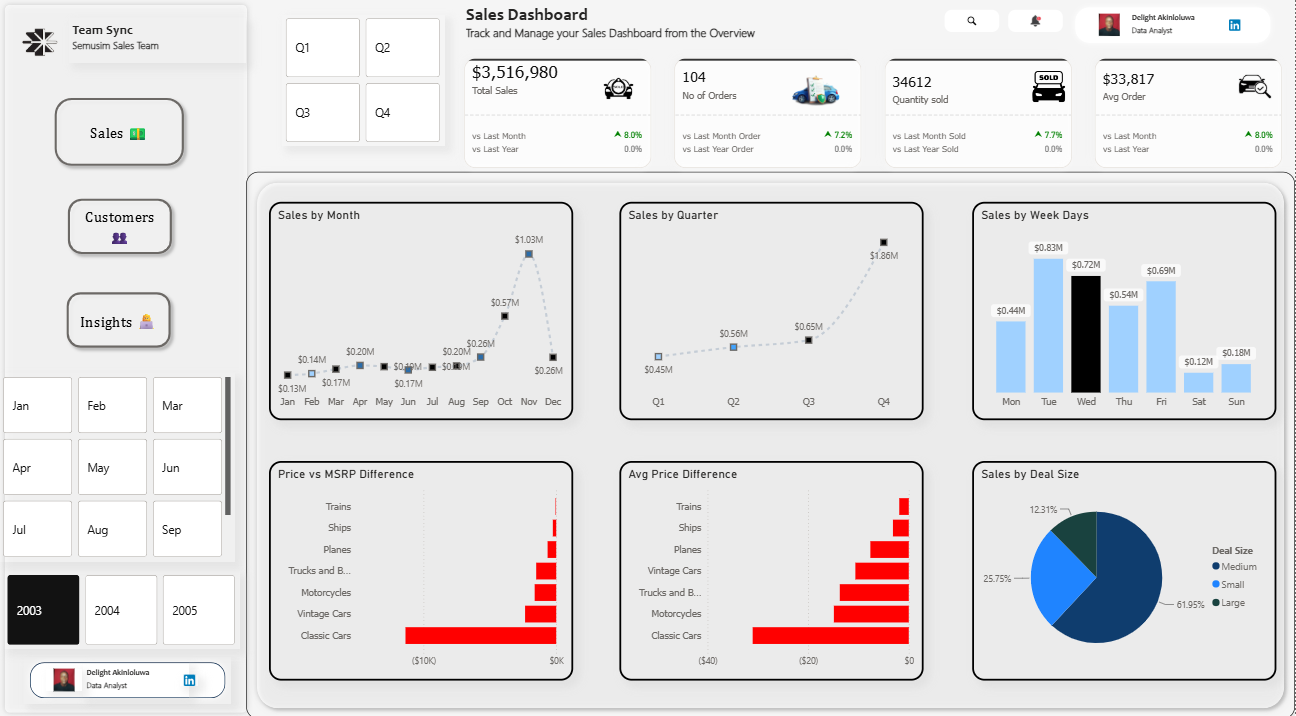

What the dashboard file says about the page in this screenshot:
{"tool":"powerbi","page":{"name":"Team Sync","canvas":[1800,1000],"ordinal":0},"visuals":[{"type":"shape","box":[0,0,352.6,999.3],"z":0},{"type":"group","id":"g1","title":"Group 4","box":[624.5,1,1179.3,255.3],"z":0,"group":"g3"},{"type":"textbox","box":[642.8,1,684.5,72.4],"z":0,"group":"g1"},{"type":"shape","box":[1485.7,3.5,287.3,65.7],"z":0,"group":"g5"},{"type":"image","box":[1312.8,10.5,75.6,35.5],"z":0,"group":"g4"},{"type":"image","box":[0,15.8,113.6,89.5],"z":0,"group":"g6"},{"type":"group","id":"g2","title":"Group 6","box":[343.1,239.7,1456.9,760.3],"z":0,"group":"g7"},{"type":"shape","box":[343.1,239.7,1456.9,760.3],"z":0,"group":"g2"},{"type":"actionButton","title":"Customer BT","box":[85.9,268.1,162.5,95],"z":0,"group":"g11"},{"type":"actionButton","title":"Customer BT","box":[84.7,397.5,162.5,95],"z":0,"group":"g10"},{"type":"advancedSlicerVisual","fields":{"Values":["Calendar_Date.Month"]},"box":[0,520,327.5,262.5],"z":0,"group":"g9"},{"type":"shape","box":[34.5,913.8,287.3,65.7],"z":0,"group":"g8"},{"type":"group","id":"g3","title":"Group 7","box":[393.1,1,1410.7,255.3],"z":1000,"group":"g7"},{"type":"group","id":"g4","title":"Group 3","box":[1312.8,3.5,460.4,65.7],"z":1000,"group":"g1"},{"type":"image","box":[1401.8,10.5,75.6,35.5],"z":1000,"group":"g4"},{"type":"image","box":[1515.9,20.6,50.4,31.5],"z":1000,"group":"g5"},{"type":"advancedSlicerVisual","fields":{"Values":["Calendar_Date.Quarter"]},"box":[393.1,20.7,225.9,182.8],"z":1000,"group":"g3"},{"type":"textbox","box":[96.1,27.6,246.1,61.8],"z":1000,"group":"g6"},{"type":"actionButton","title":"Sales BT","box":[67.5,127.5,197.5,112.4],"z":1000},{"type":"lineChart","title":"Sales by Month","fields":{"Category":["Calendar_Date.Month"],"Y":["All Calculations.Total Sales"]},"box":[374.1,281.1,422.4,303.4],"z":1000,"group":"g2"},{"type":"advancedSlicerVisual","fields":{"Values":["Calendar_Date.Year"]},"box":[6.7,795,328.3,107.5],"z":1000,"group":"g9"},{"type":"image","box":[64.7,930.9,50.4,31.5],"z":1000,"group":"g8"},{"type":"group","id":"g5","title":"Group 2","box":[1485.7,3.5,287.3,65.7],"z":2000,"group":"g4"},{"type":"textbox","box":[1568,10.1,147.9,51.2],"z":2000,"group":"g5"},{"type":"group","id":"g6","title":"Group 1","box":[0,15.8,342.1,89.5],"z":2000},{"type":"cardVisual","fields":{"Data":["All Calculations.Total Sales","Table.No of Orders","Table.Total Quantity sold","Table.Average Sales per Order"]},"box":[624.5,61.4,1179.3,194.8],"z":2000,"group":"g1"},{"type":"lineChart","title":"Sales by Quarter ","fields":{"Category":["Calendar_Date.Quarter"],"Y":["All Calculations.Total Sales"]},"box":[862.1,281.1,422.4,303.4],"z":2000,"group":"g2"},{"type":"textbox","box":[116.8,920.4,147.9,51.2],"z":2000,"group":"g8"},{"type":"group","id":"g7","title":"Sales Dashboard View","box":[343.1,1,1460.7,999],"z":3000},{"type":"image","box":[1702.4,28.5,25.2,15.8],"z":3000,"group":"g5"},{"type":"lineStackedColumnComboChart","title":"Sales by Week Days","fields":{"Category":["Calendar_Date.Weekday"],"Y":["All Calculations.Total Sales"]},"box":[1351.7,281.1,422.4,303.4],"z":3000,"group":"g2"},{"type":"image","box":[251.2,938.8,25.2,15.8],"z":3000,"group":"g8"},{"type":"clusteredBarChart","title":"Price vs MSRP Difference","fields":{"Category":["sales_data_sample.PRODUCTLINE"],"Y":["All Calculations.Price Difference"]},"box":[374.1,641.4,422.4,305.2],"z":4000,"group":"g2"},{"type":"group","id":"g8","title":"Group 2","box":[34.5,913.8,287.9,65.5],"z":4000},{"type":"group","id":"g9","title":"Group 5","box":[0,520,335,382.5],"z":5000},{"type":"clusteredBarChart","title":"Avg Price Difference","fields":{"Category":["sales_data_sample.PRODUCTLINE"],"Y":["All Calculations.Aveg PriceDifference"]},"box":[862.1,641.4,422.4,305.2],"z":5000,"group":"g2"},{"type":"pieChart","title":"Sales by Deal Size","fields":{"Category":["sales_data_sample.DEALSIZE"],"Y":["All Calculations.Total Sales"]},"box":[1351.7,641.4,422.4,305.2],"z":6000,"group":"g2"},{"type":"group","id":"g10","title":"Insight SBT","box":[84.7,397.5,162.5,95],"z":10000},{"type":"group","id":"g11","title":"Customer SBT","box":[85.9,268.1,162.5,95],"z":11000}]}

Visuals, with their boxes in screenshot pixels (x1, y1, x2, y2), scaled from the page's 1800x1000 canvas onto the 1296x716 screenshot:
shape: (0,0,254,715)
"Group 4" group: (450,1,1295,184)
textbox: (463,1,956,53)
shape: (1070,3,1277,50)
image: (945,8,1000,33)
image: (0,11,82,75)
"Group 6" group: (247,172,1295,715)
shape: (247,172,1295,715)
"Customer BT" actionButton: (62,192,179,260)
"Customer BT" actionButton: (61,285,178,353)
advancedSlicerVisual - Calendar_Date.Month: (0,372,236,560)
shape: (25,654,232,701)
"Group 7" group: (283,1,1295,184)
"Group 3" group: (945,3,1277,50)
image: (1009,8,1064,33)
image: (1091,15,1128,37)
advancedSlicerVisual - Calendar_Date.Quarter: (283,15,446,146)
textbox: (69,20,246,64)
"Sales BT" actionButton: (49,91,191,172)
"Sales by Month" lineChart: (269,201,573,419)
advancedSlicerVisual - Calendar_Date.Year: (5,569,241,646)
image: (47,667,83,689)
"Group 2" group: (1070,3,1277,50)
textbox: (1129,7,1235,44)
"Group 1" group: (0,11,246,75)
cardVisual - All Calculations.Total Sales x Table.No of Orders: (450,44,1295,183)
"Sales by Quarter " lineChart: (621,201,925,419)
textbox: (84,659,191,696)
"Sales Dashboard View" group: (247,1,1295,715)
image: (1226,20,1244,32)
"Sales by Week Days" lineStackedColumnComboChart: (973,201,1277,419)
image: (181,672,199,683)
"Price vs MSRP Difference" clusteredBarChart: (269,459,573,678)
"Group 2" group: (25,654,232,701)
"Group 5" group: (0,372,241,646)
"Avg Price Difference" clusteredBarChart: (621,459,925,678)
"Sales by Deal Size" pieChart: (973,459,1277,678)
"Insight SBT" group: (61,285,178,353)
"Customer SBT" group: (62,192,179,260)
